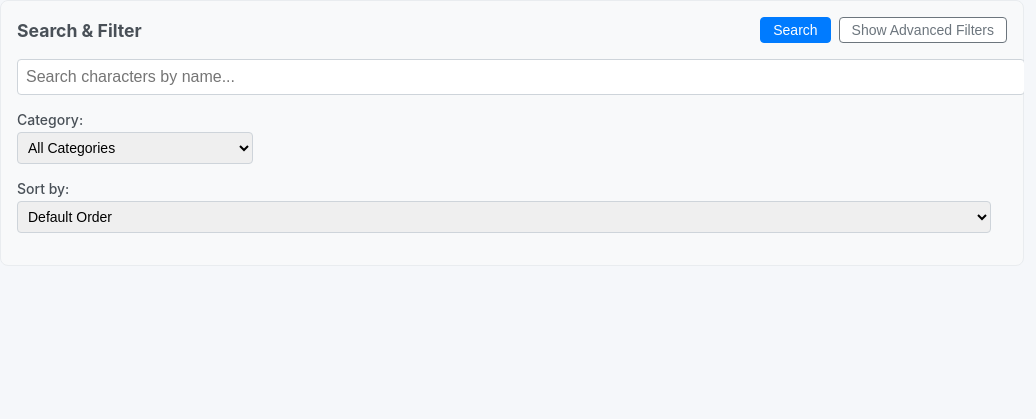
SearchFilterSort Component › shows advanced filters when toggle clicked
Click the button "Show Advanced Filters".
click(923, 30)  # box 839,17 -> 1007,43
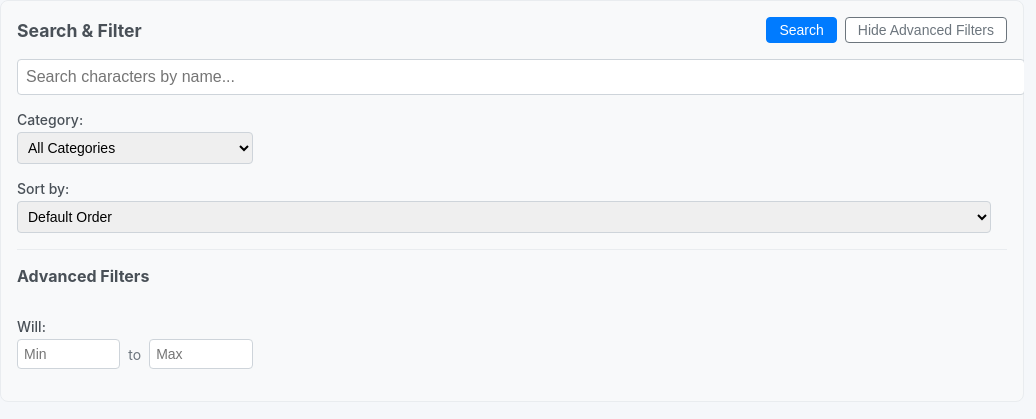
Expected: the button "Hide Advanced Filters" is shown, 845,17 -> 1007,43
Expected: the heading "Advanced Filters" is shown, 17,266 -> 149,286
